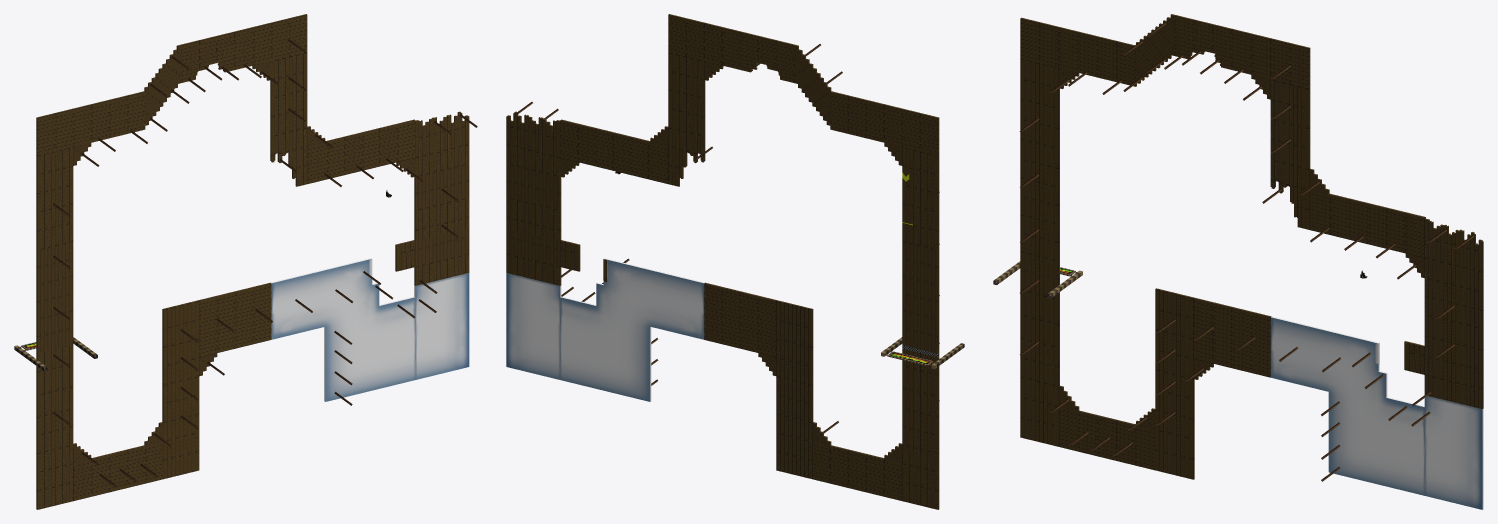
Rendered from SNESGhostValley_road.glb.
3 views of the same model, side by side, from view 1: azimuth 30°, elevation 25°; view 2: azimuth 150°, elevation 25°; view 3: azimuth 330°, elevation 25° (orthographic). The views are drawn at different scales.
Parts seen in each view (by area): view 1: polygon59, polygon61b, polygon5, polygon60b; view 2: polygon59, polygon61b, polygon60b; view 3: polygon59, polygon61b, polygon5, polygon60b.
Part boxes in pixels (box(x1,y1,x2,y2)): polygon59: box(36, 14, 469, 509); polygon61b: box(289, 258, 469, 401); polygon5: box(20, 39, 477, 487); polygon60b: box(271, 273, 469, 339); polygon59: box(506, 14, 939, 509); polygon61b: box(506, 258, 686, 401); polygon60b: box(506, 273, 704, 339); polygon59: box(1020, 14, 1483, 479); polygon61b: box(1290, 321, 1483, 509); polygon5: box(1019, 22, 1474, 481); polygon60b: box(1270, 316, 1483, 421).
Bounding box in the file's own units: 39848 × 37050 × 4776.
Materials: 17 (17 with a texture image).
